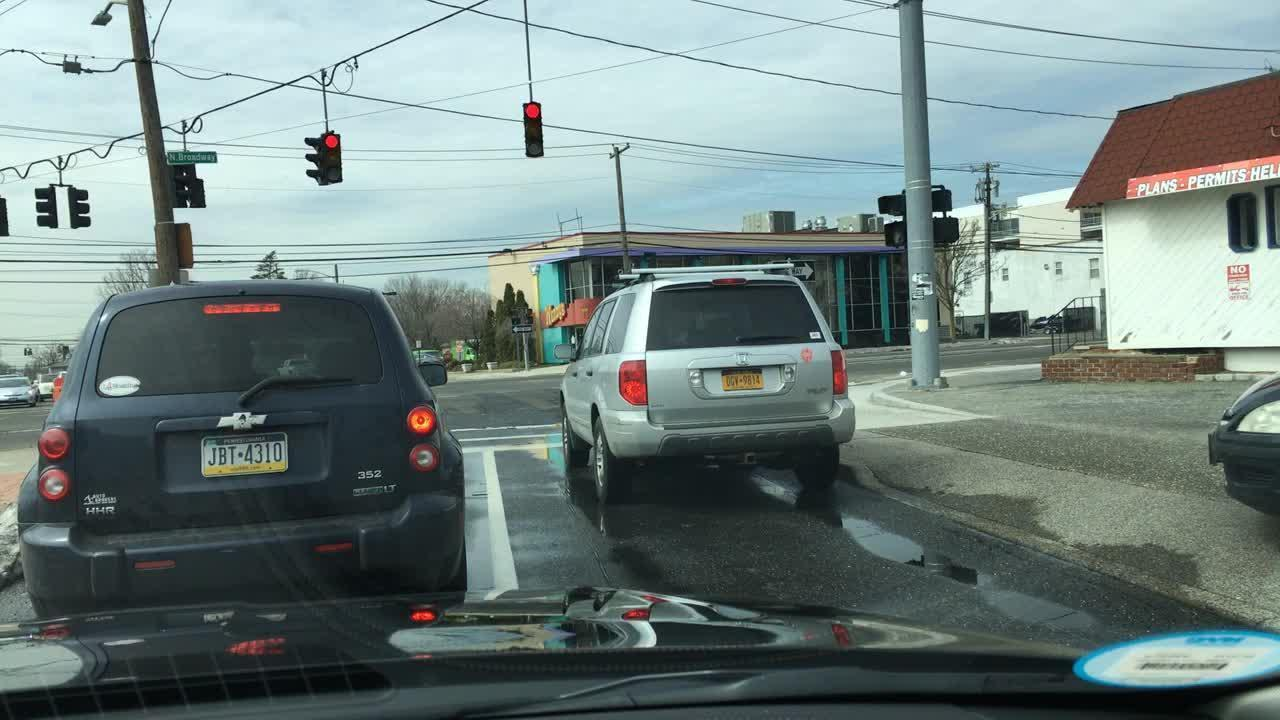Honda: (729, 350, 760, 370)
chevrolet: (209, 403, 283, 439)
